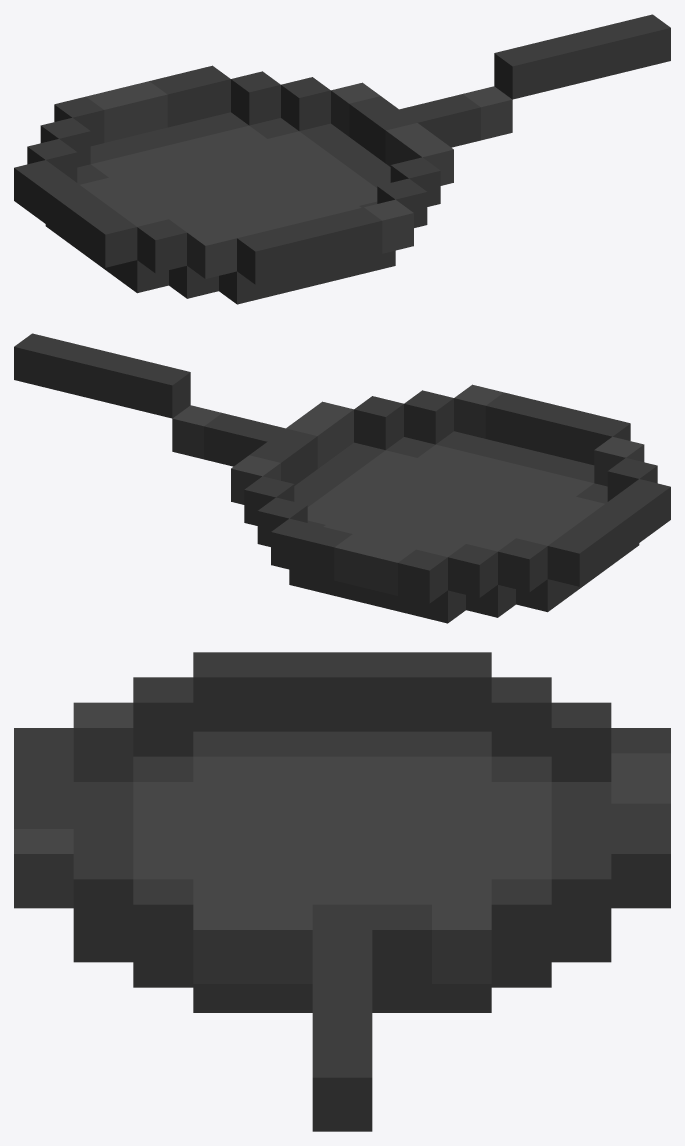
The model's file is Skovorodka.obj.
3 views of the same model, one above another, from view 1: azimuth 30°, elevation 25°; view 2: azimuth 150°, elevation 25°; view 3: azimuth 270°, elevation 25° (orthographic). The views are drawn at different scales.
Size of the model in its own units: 1.9 by 0.3 by 1.1.
1 material, 1 textured.
